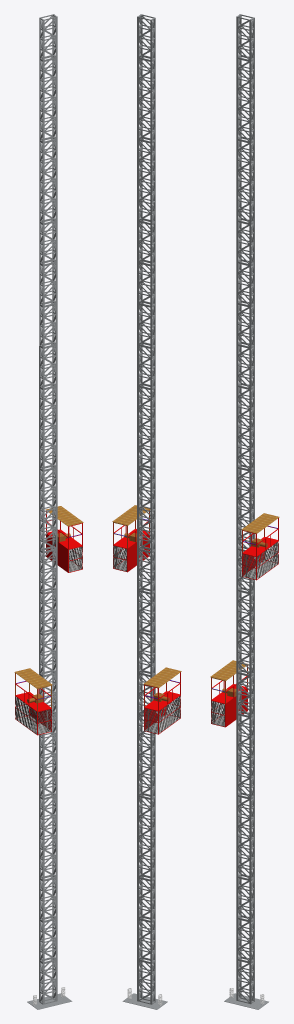
File: construction-hoist-twin.glb
3 views of the same model, side by side, from view 1: azimuth 30°, elevation 25°; view 2: azimuth 150°, elevation 25°; view 3: azimuth 330°, elevation 25° (orthographic).
Visible parts, largest first — view 1: Geom3D_19, Geom3D_15, Geom3D_10, Geom3D_36, Geom3D_35, Geom3D_25, Geom3D_26, Geom3D_34, Geom3D_27, Geom3D_4, Geom3D_24, Geom3D_39 (+2 smaller); view 2: Geom3D_19, Geom3D_15, Geom3D_10, Geom3D_36, Geom3D_35, Geom3D_26, Geom3D_25, Geom3D_34, Geom3D_20, Geom3D_14, Geom3D_9, Geom3D_24 (+4 smaller); view 3: Geom3D_19, Geom3D_10, Geom3D_15, Geom3D_24, Geom3D_25, Geom3D_32, Geom3D_35, Geom3D_27, Geom3D_34, Geom3D_36, Geom3D_4, Geom3D_30 (+1 smaller).
Boxes of the visible parts, bbox=[...] form: Geom3D_19: bbox=[39, 14, 57, 348]; Geom3D_15: bbox=[39, 343, 57, 676]; Geom3D_10: bbox=[39, 671, 57, 1004]; Geom3D_36: bbox=[15, 696, 51, 734]; Geom3D_35: bbox=[15, 673, 51, 735]; Geom3D_25: bbox=[46, 511, 82, 572]; Geom3D_26: bbox=[46, 512, 68, 572]; Geom3D_34: bbox=[14, 668, 52, 688]; Geom3D_27: bbox=[45, 506, 83, 526]; Geom3D_4: bbox=[27, 993, 71, 1009]; Geom3D_24: bbox=[69, 546, 82, 571]; Geom3D_39: bbox=[16, 715, 50, 734]; Geom3D_19: bbox=[137, 14, 155, 348]; Geom3D_15: bbox=[137, 343, 155, 676]; Geom3D_10: bbox=[137, 671, 155, 1004]; Geom3D_36: bbox=[144, 695, 180, 733]; Geom3D_35: bbox=[144, 672, 180, 734]; Geom3D_26: bbox=[127, 510, 149, 571]; Geom3D_25: bbox=[113, 519, 149, 572]; Geom3D_34: bbox=[143, 667, 181, 687]; Geom3D_20: bbox=[139, 15, 154, 344]; Geom3D_14: bbox=[139, 343, 154, 672]; Geom3D_9: bbox=[139, 672, 154, 1001]; Geom3D_24: bbox=[113, 546, 126, 571]; Geom3D_19: bbox=[236, 14, 254, 347]; Geom3D_10: bbox=[236, 670, 254, 1004]; Geom3D_15: bbox=[236, 342, 254, 675]; Geom3D_24: bbox=[242, 542, 278, 578]; Geom3D_25: bbox=[242, 518, 278, 580]; Geom3D_32: bbox=[225, 665, 247, 726]; Geom3D_35: bbox=[211, 675, 246, 727]; Geom3D_27: bbox=[241, 513, 279, 533]; Geom3D_34: bbox=[210, 660, 248, 680]; Geom3D_36: bbox=[211, 701, 224, 726]; Geom3D_4: bbox=[224, 993, 268, 1009]; Geom3D_30: bbox=[243, 560, 276, 579].
Size of the model in its own units: 4.52 by 90.94 by 3.81.
Materials: 10 (6 with a texture image).
